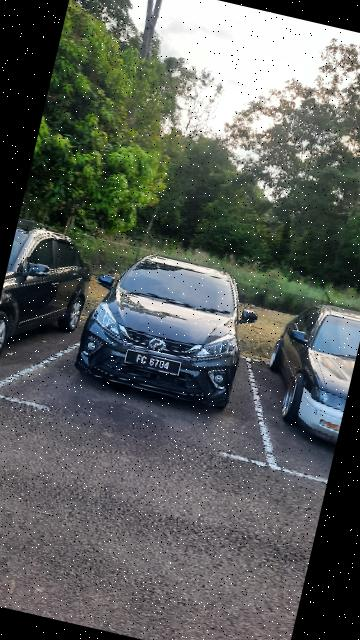License_Plate: (121, 346, 185, 379)
car: (71, 242, 269, 422)
